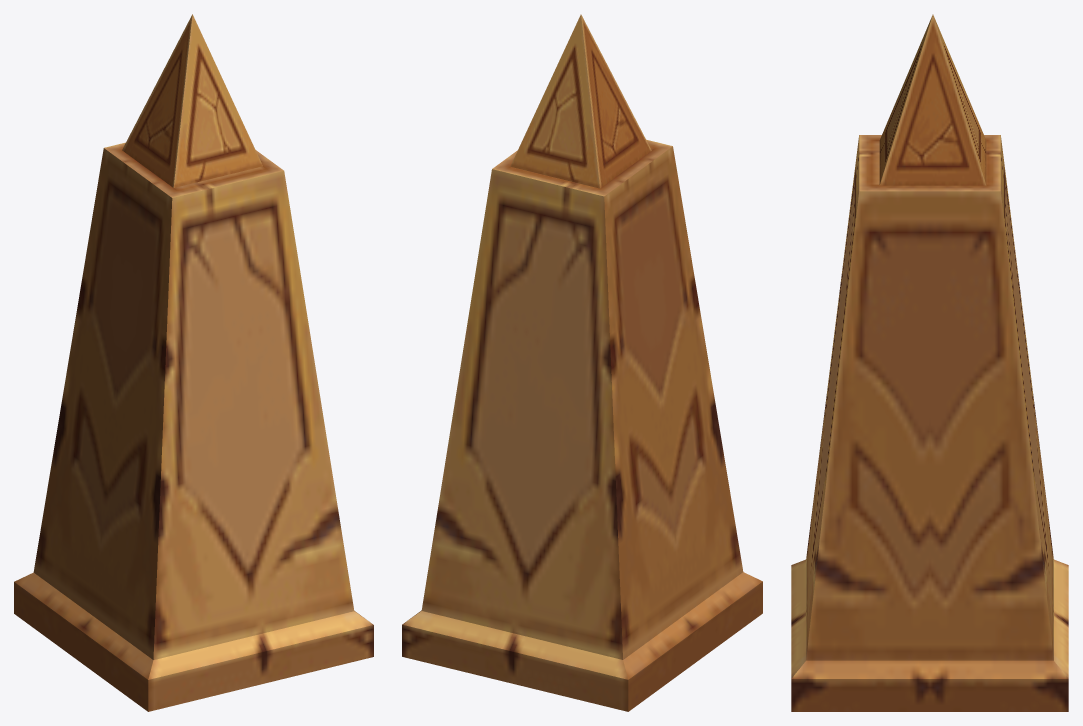
The model's file is sm_kulou1.fbx.
3 views of the same model, side by side, from view 1: azimuth 30°, elevation 25°; view 2: azimuth 150°, elevation 25°; view 3: azimuth 270°, elevation 25° (orthographic). The views are drawn at different scales.
Visible parts, largest first — view 1: sm_kulou1; view 2: sm_kulou1; view 3: sm_kulou1.
Part boxes in pixels (x1,y1,x2,y2): sm_kulou1: (14,14,373,711); sm_kulou1: (402,14,762,711); sm_kulou1: (791,14,1068,711).
Size of the model in its own units: 1312 by 3446 by 1351.
